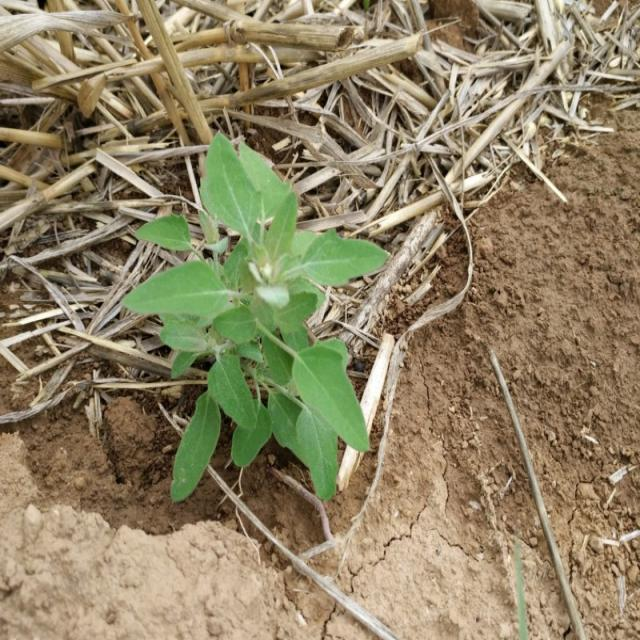ca: (140, 133, 382, 500)
